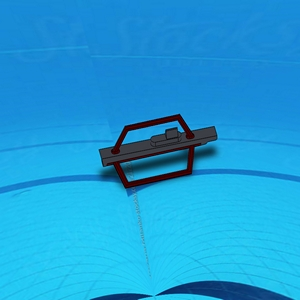submarine: (94, 114, 218, 192)
